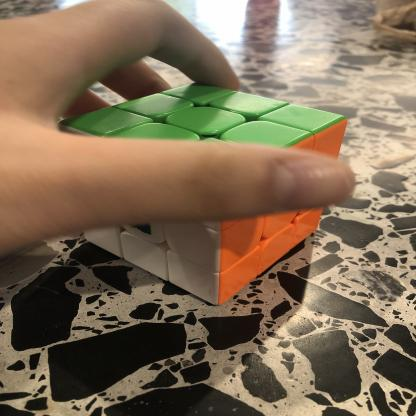SolvedCube: (69, 79, 352, 294)
